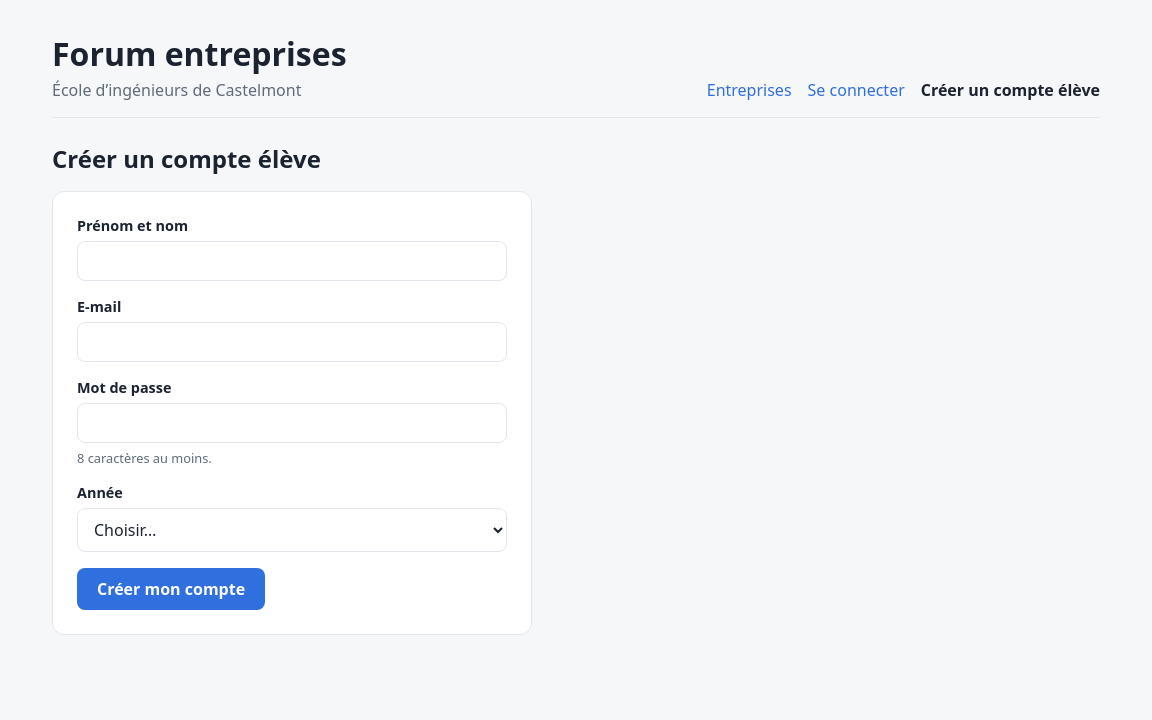
RegisterPage › says so when the email is already used
The image size is (1152, 720).
In the field labelled "Prénom et nom": (292, 261) [77,241,507,281], type "Camille Martin"
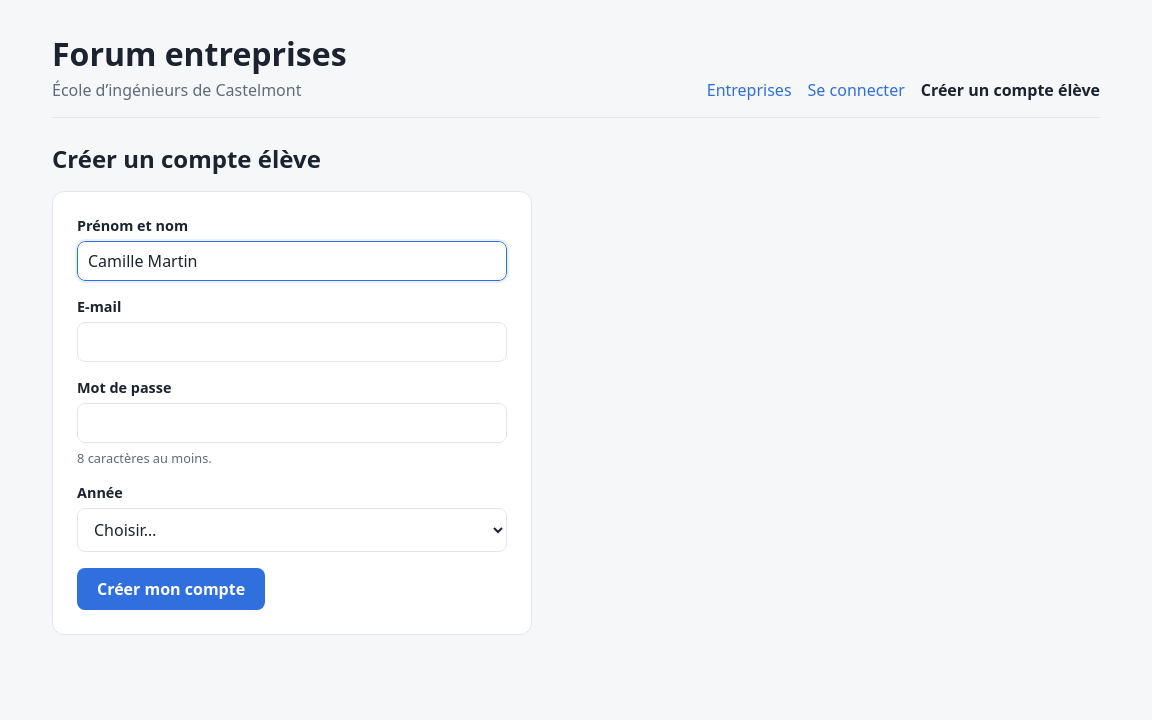
In the field labelled "E-mail": (292, 342) [77,322,507,362], type "camille@etu.test"
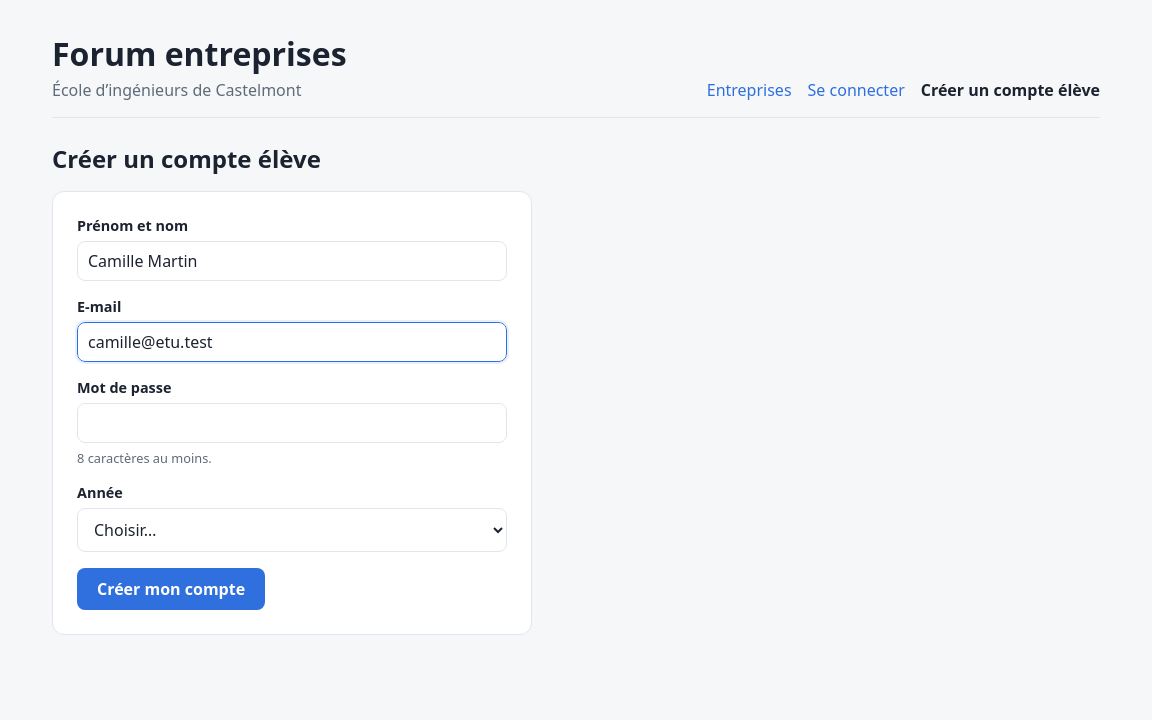
In the password field labelled "Mot de passe": (292, 423) [77,403,507,443], type "password"
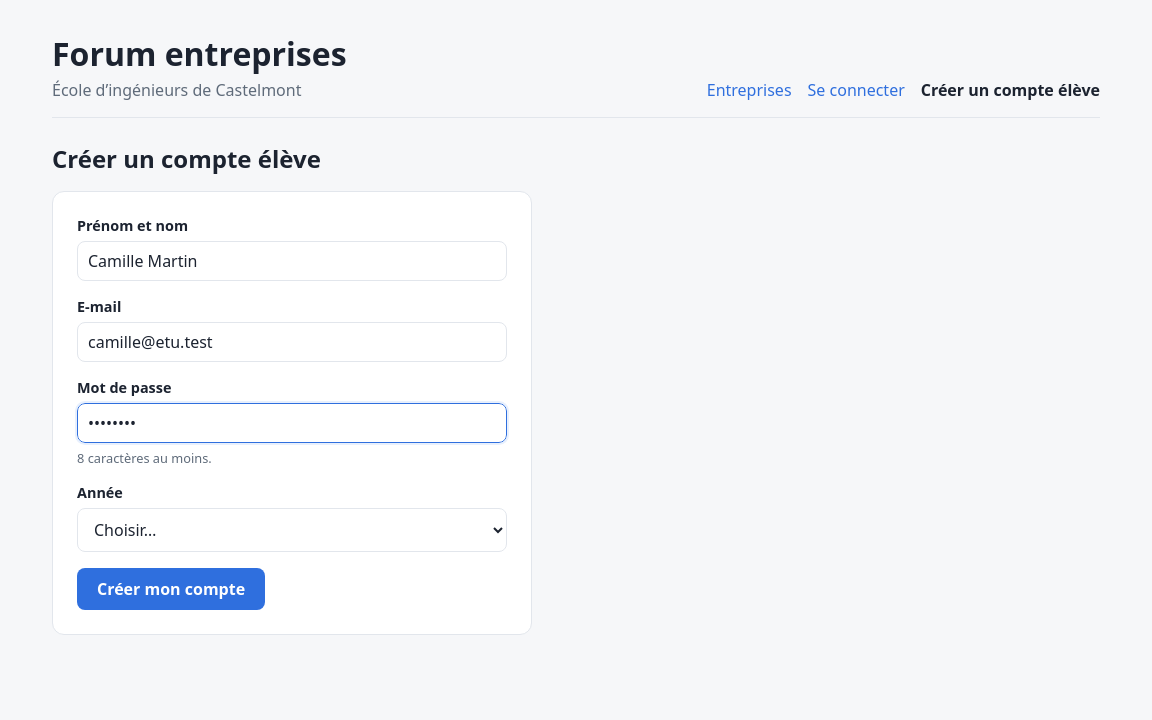
Select "2A" in the dropdown labelled "Année": (292, 530) [77,508,507,552]
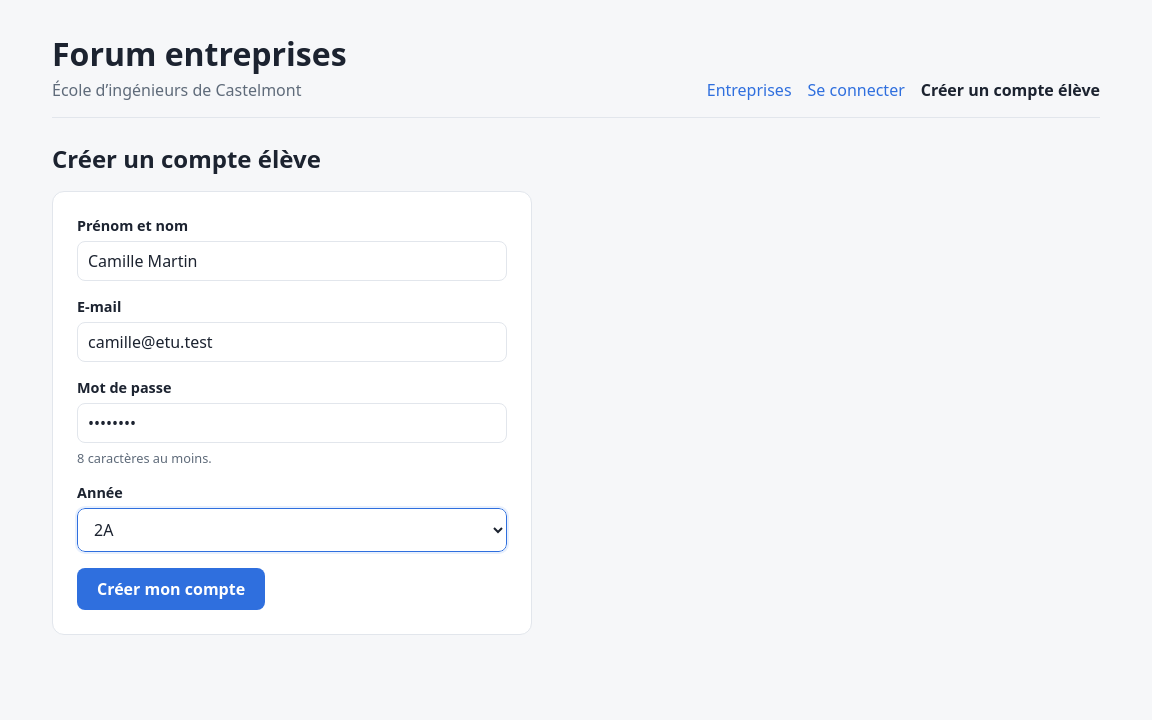
Click the button "Créer mon compte": (171, 589) [77,568,265,610]
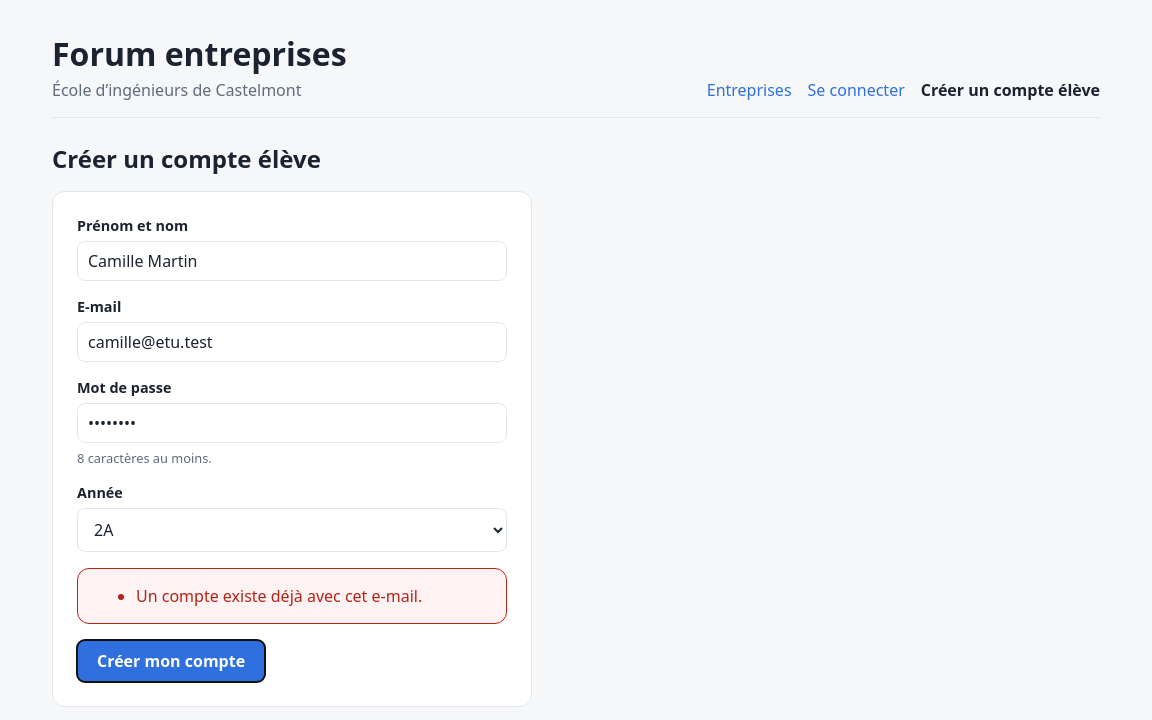
Check: the message reads "Un compte existe déjà avec cet e-mail.", box [136,585,422,607]
